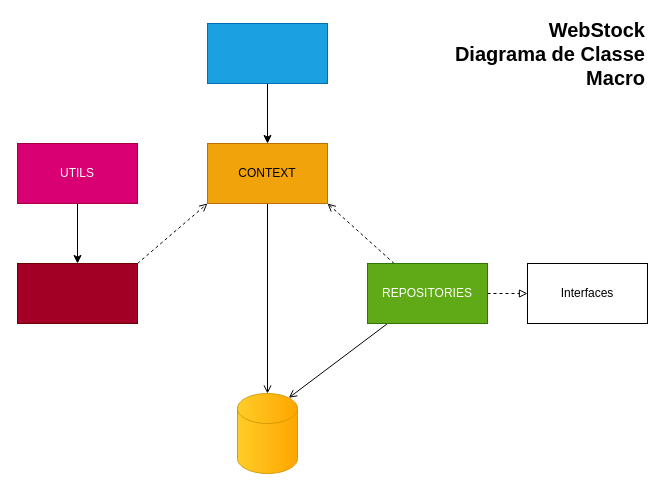
This 665x491 diagram has some shape labels left out. The shapes that lost their labels are listed below. From the top down, each one's box as (x1, y1, x2, y2) in pixels, then its label:
(206, 22, 328, 84): MODELS
(16, 262, 138, 324): CONTROLLERS
